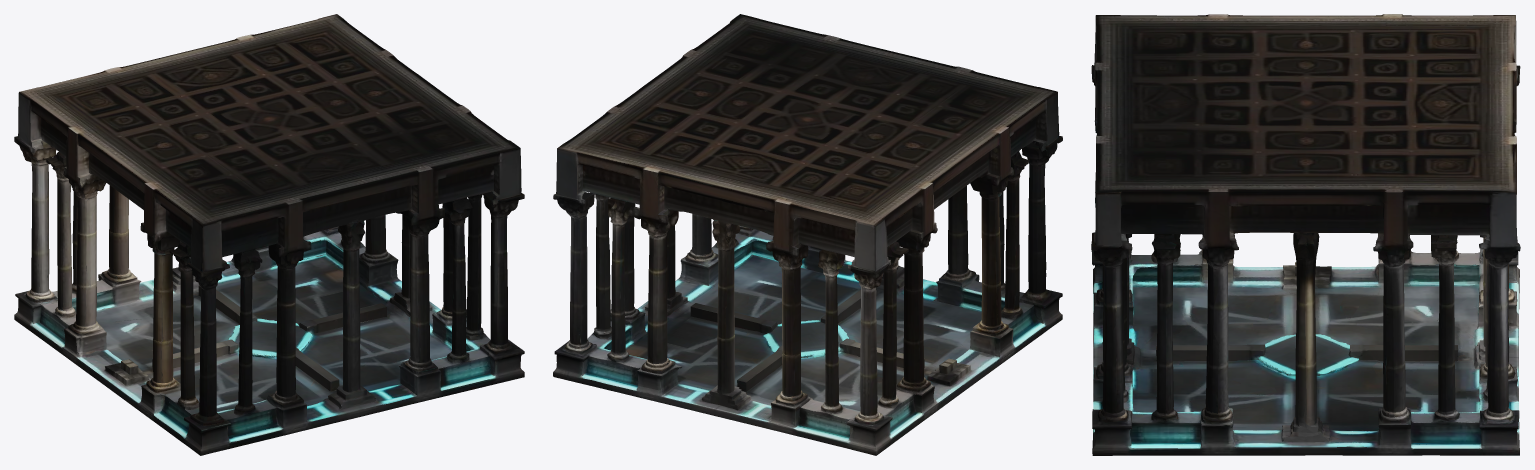
The model's file is world.glb.
3 views of the same model, side by side, from view 1: azimuth 30°, elevation 25°; view 2: azimuth 150°, elevation 25°; view 3: azimuth 270°, elevation 25° (orthographic). The views are drawn at different scales.
Visible parts, largest first — view 1: geometry_0; view 2: geometry_0; view 3: geometry_0.
Part boxes in pixels (x1,y1,x2,y2): geometry_0: [14, 14, 524, 455]; geometry_0: [553, 14, 1062, 455]; geometry_0: [1091, 14, 1520, 455].
Bounding box in the file's own units: 0.9995 × 0.6762 × 0.9999.
Materials: 1 (1 with a texture image).
